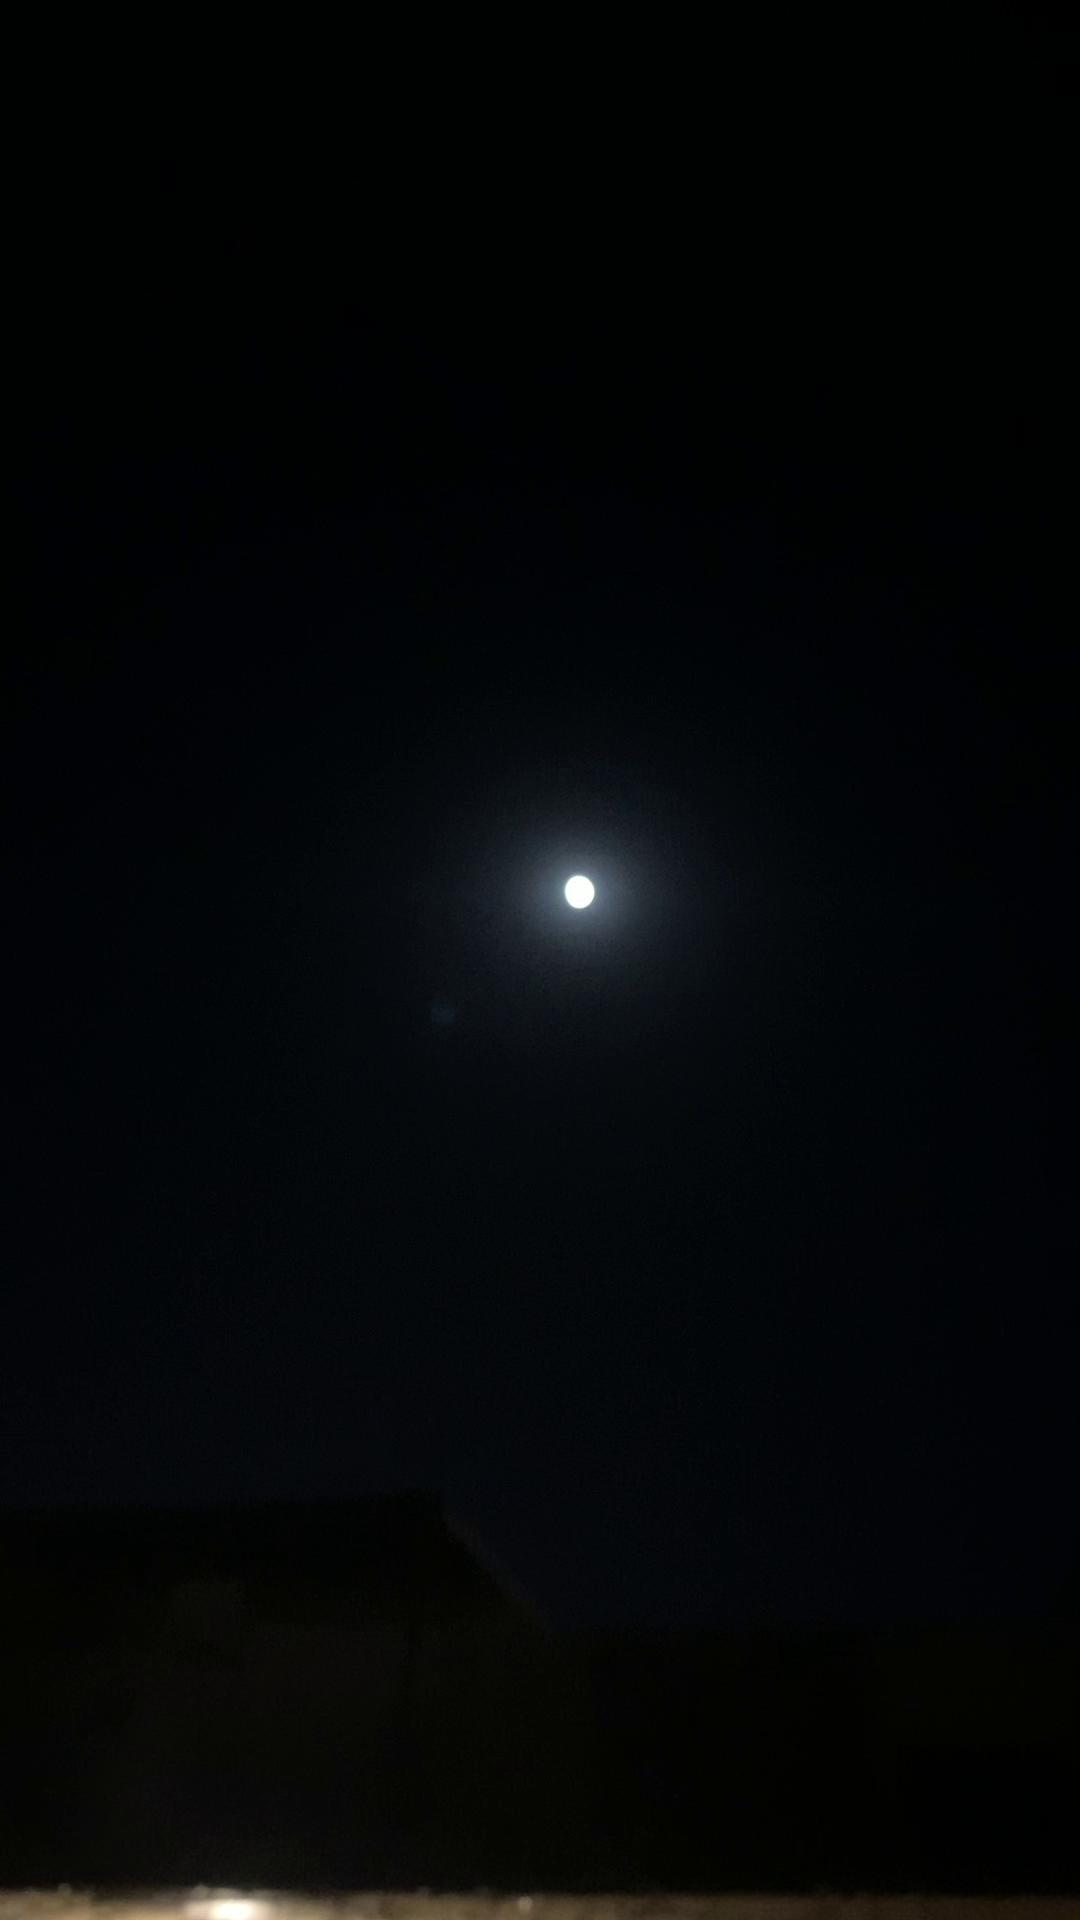moon: (535, 844, 622, 939)
